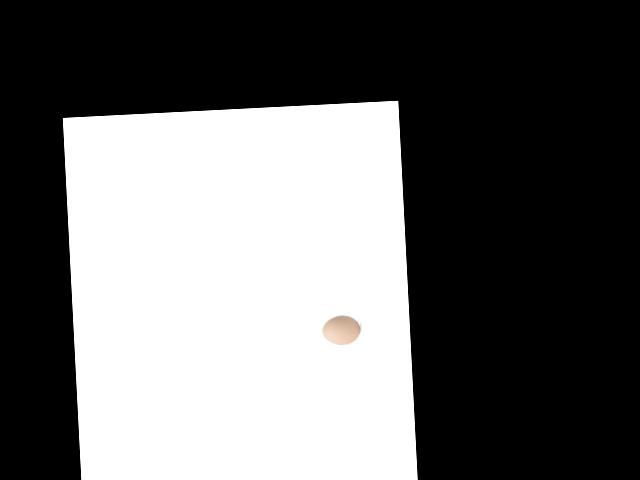egg: (322, 314, 361, 345)
